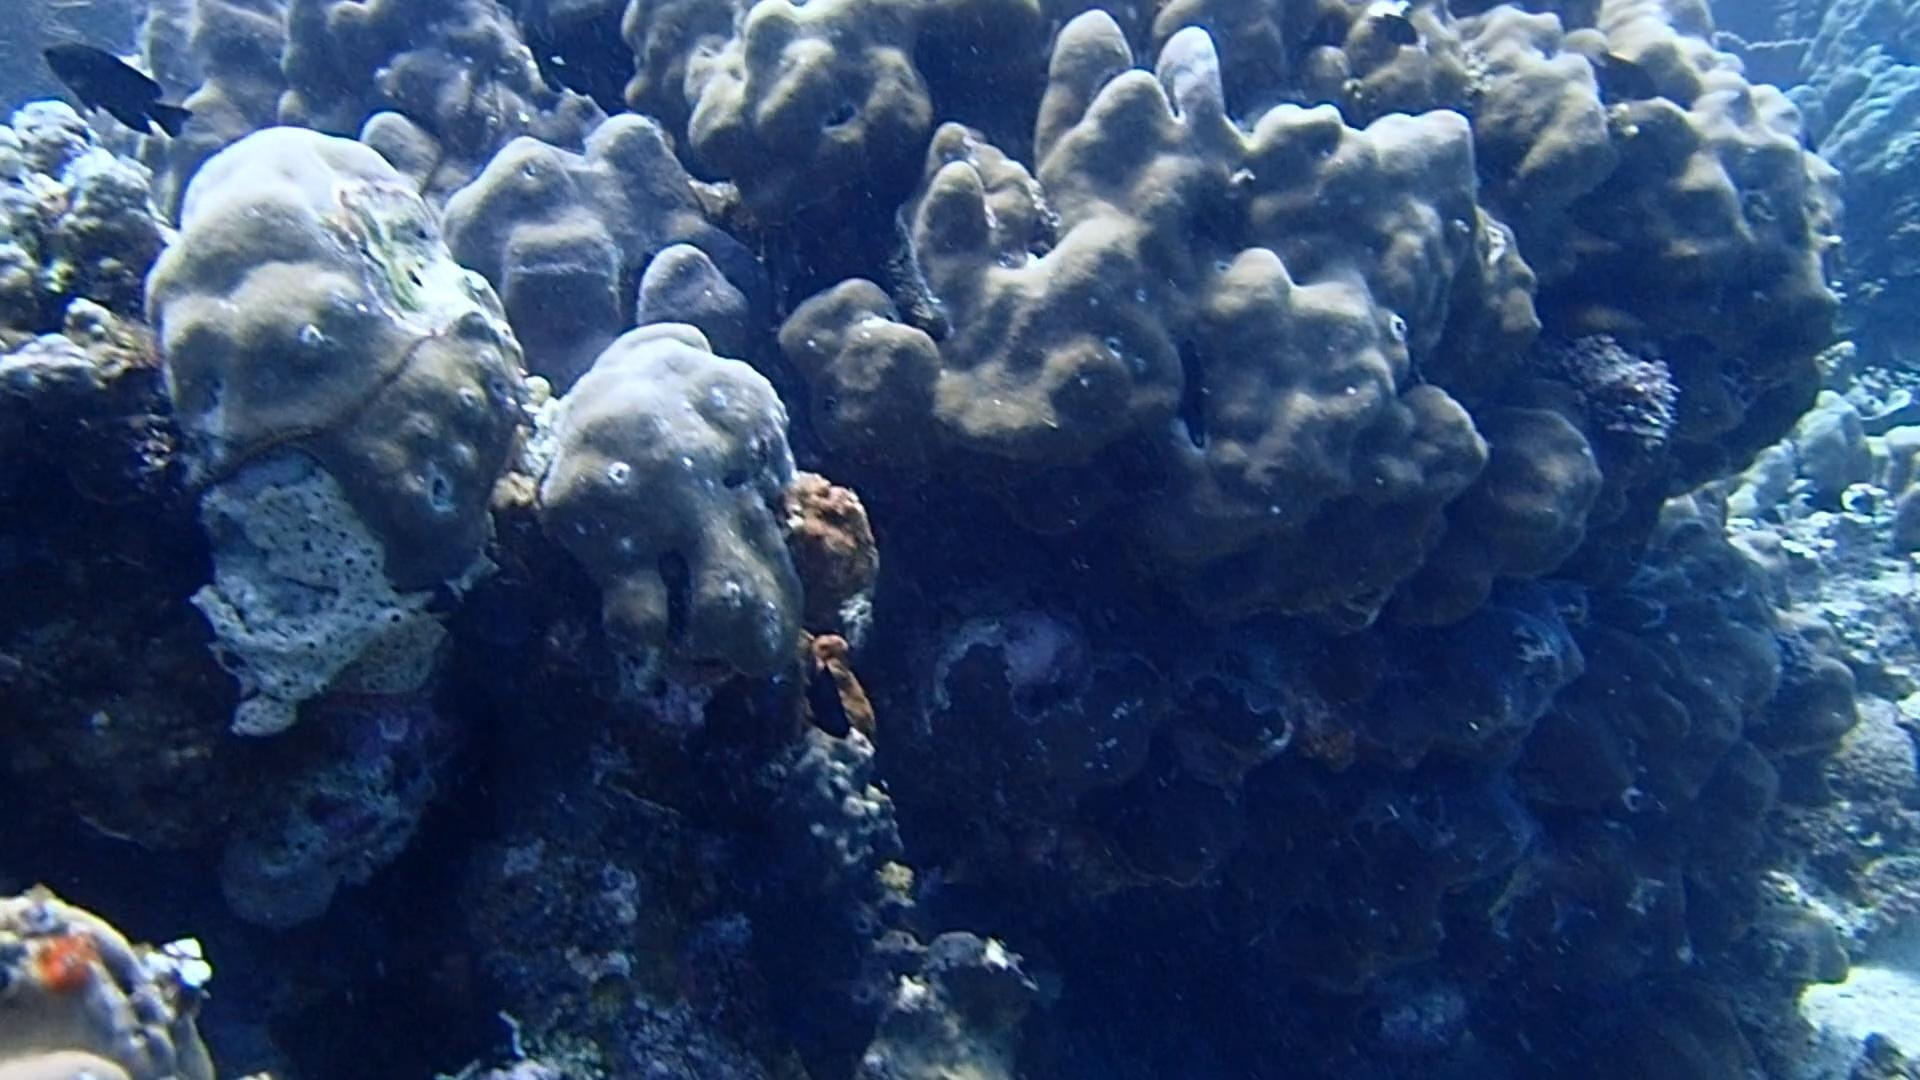Dark Fish: (30, 24, 204, 144), (789, 654, 868, 753), (1580, 36, 1664, 115)
